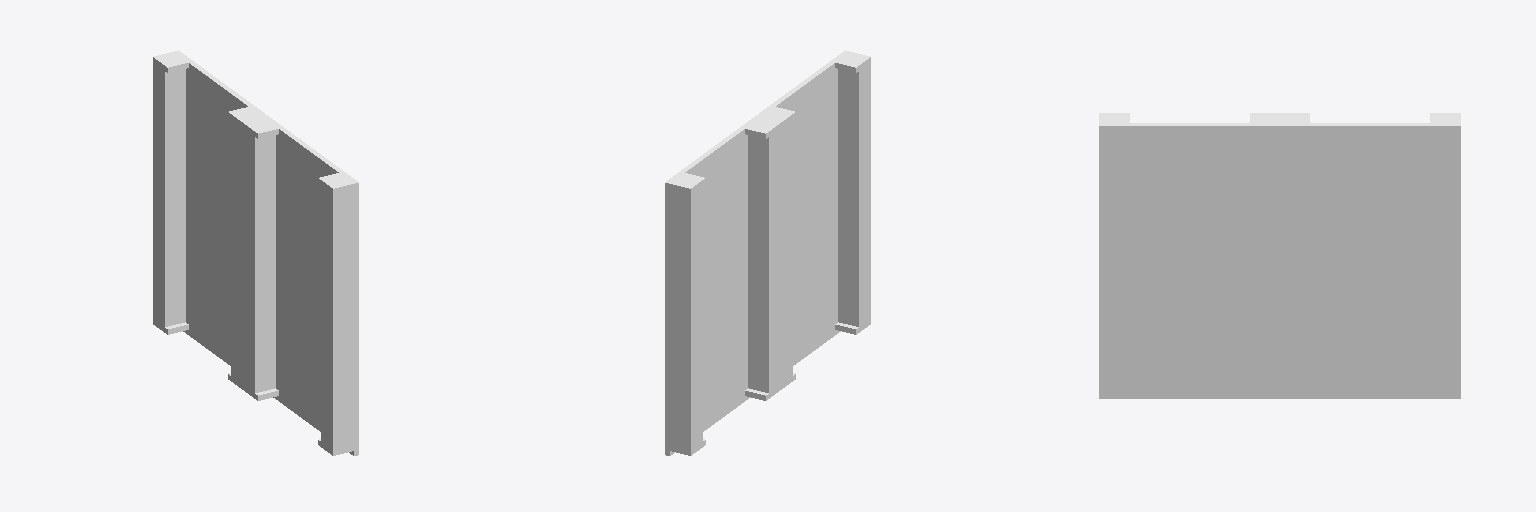
Rendered from chertej-432 1.obj.
3 renders of one model, left to right at view 1: azimuth 30°, elevation 25°; view 2: azimuth 150°, elevation 25°; view 3: azimuth 270°, elevation 25°, orthographic.
Parts seen in each view (by area): view 1: object 1; view 2: object 1; view 3: object 1.
Boxes of the visible parts, box(x1,y1,x2,y2) form: object 1: box(153, 50, 358, 455); object 1: box(665, 50, 870, 455); object 1: box(1099, 113, 1460, 398).
Size of the model in its own units: 1 by 10 by 12.